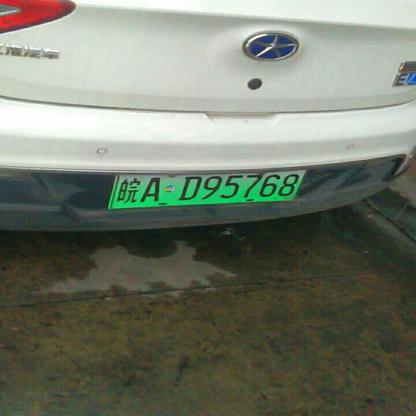lp: (111, 170, 306, 208)
